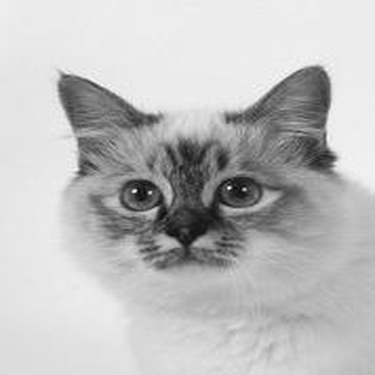cat: (53, 63, 366, 373)
